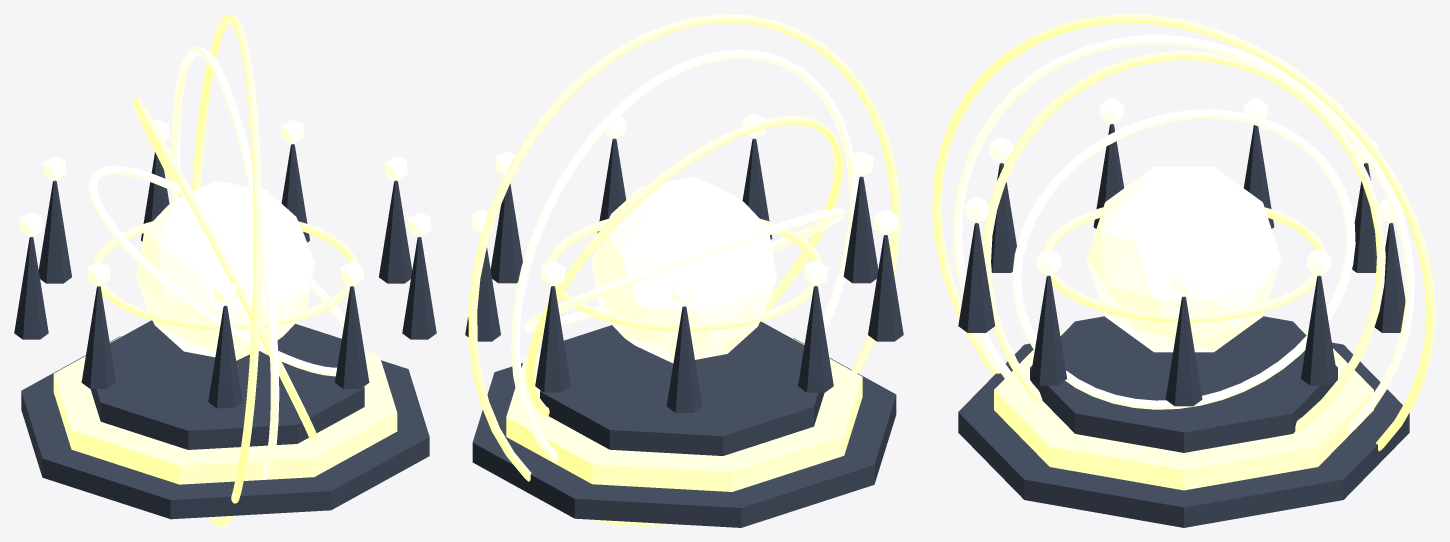
The model's file is gpu-blender-v26.glb.
3 views of the same model, side by side, from view 1: azimuth 30°, elevation 25°; view 2: azimuth 150°, elevation 25°; view 3: azimuth 270°, elevation 25° (orthographic). The views are drawn at different scales.
Visible parts, largest first — view 1: Cylinder.002, Cylinder, SovereignCore_payload-entropy-studio, Cylinder.001, Torus.004, Torus.003, Torus.001, Torus.002, Torus, Cone.006, Cone.004, Cone.008 (+6 smaller); view 2: Cylinder.002, SovereignCore_payload-entropy-studio, Cylinder, Cylinder.001, Torus.004, Torus.003, Torus.002, Torus.001, Torus, Cone.005, Cone.002, Cone.004 (+6 smaller); view 3: SovereignCore_payload-entropy-studio, Cylinder.002, Cylinder, Cylinder.001, Torus.004, Torus.003, Torus.002, Torus.001, Torus, Cone, Cone.001, Cone.008 (+6 smaller).
Part boxes in pixels (bbox=[...]): Cylinder.002: bbox=[90, 320, 364, 449]; Cylinder: bbox=[21, 336, 429, 519]; SovereignCore_payload-entropy-studio: bbox=[136, 181, 314, 360]; Cylinder.001: bbox=[53, 327, 397, 484]; Torus.004: bbox=[192, 14, 262, 527]; Torus.003: bbox=[171, 46, 279, 479]; Torus.001: bbox=[88, 165, 345, 376]; Torus.002: bbox=[132, 97, 317, 439]; Torus: bbox=[92, 221, 358, 329]; Cone.006: bbox=[208, 305, 242, 408]; Cone.004: bbox=[14, 237, 48, 339]; Cone.008: bbox=[402, 237, 436, 339]; Cylinder.002: bbox=[540, 321, 824, 455]; SovereignCore_payload-entropy-studio: bbox=[592, 176, 776, 363]; Cylinder: bbox=[472, 338, 896, 527]; Cylinder.001: bbox=[506, 329, 862, 491]; Torus.004: bbox=[468, 14, 900, 526]; Torus.003: bbox=[511, 49, 857, 462]; Torus.002: bbox=[525, 115, 843, 416]; Torus.001: bbox=[523, 208, 844, 332]; Torus: bbox=[546, 219, 822, 331]; Cone.005: bbox=[868, 235, 903, 341]; Cone.002: bbox=[535, 286, 570, 392]; Cone.004: bbox=[798, 286, 833, 392]; SovereignCore_payload-entropy-studio: bbox=[1086, 166, 1281, 352]; Cylinder.002: bbox=[1030, 316, 1337, 452]; Cylinder: bbox=[958, 342, 1409, 527]; Cylinder.001: bbox=[994, 330, 1373, 490]; Torus.004: bbox=[932, 14, 1435, 451]; Torus.003: bbox=[953, 35, 1414, 433]; Torus.002: bbox=[983, 50, 1385, 432]; Torus.001: bbox=[1012, 109, 1355, 409]; Torus: bbox=[1042, 207, 1325, 322]; Cone: bbox=[1165, 296, 1202, 406]; Cone.001: bbox=[1300, 275, 1337, 385]; Cone.008: bbox=[1030, 275, 1067, 385].
Bounding box in the file's own units: 4.41 × 5.33 × 4.9.
